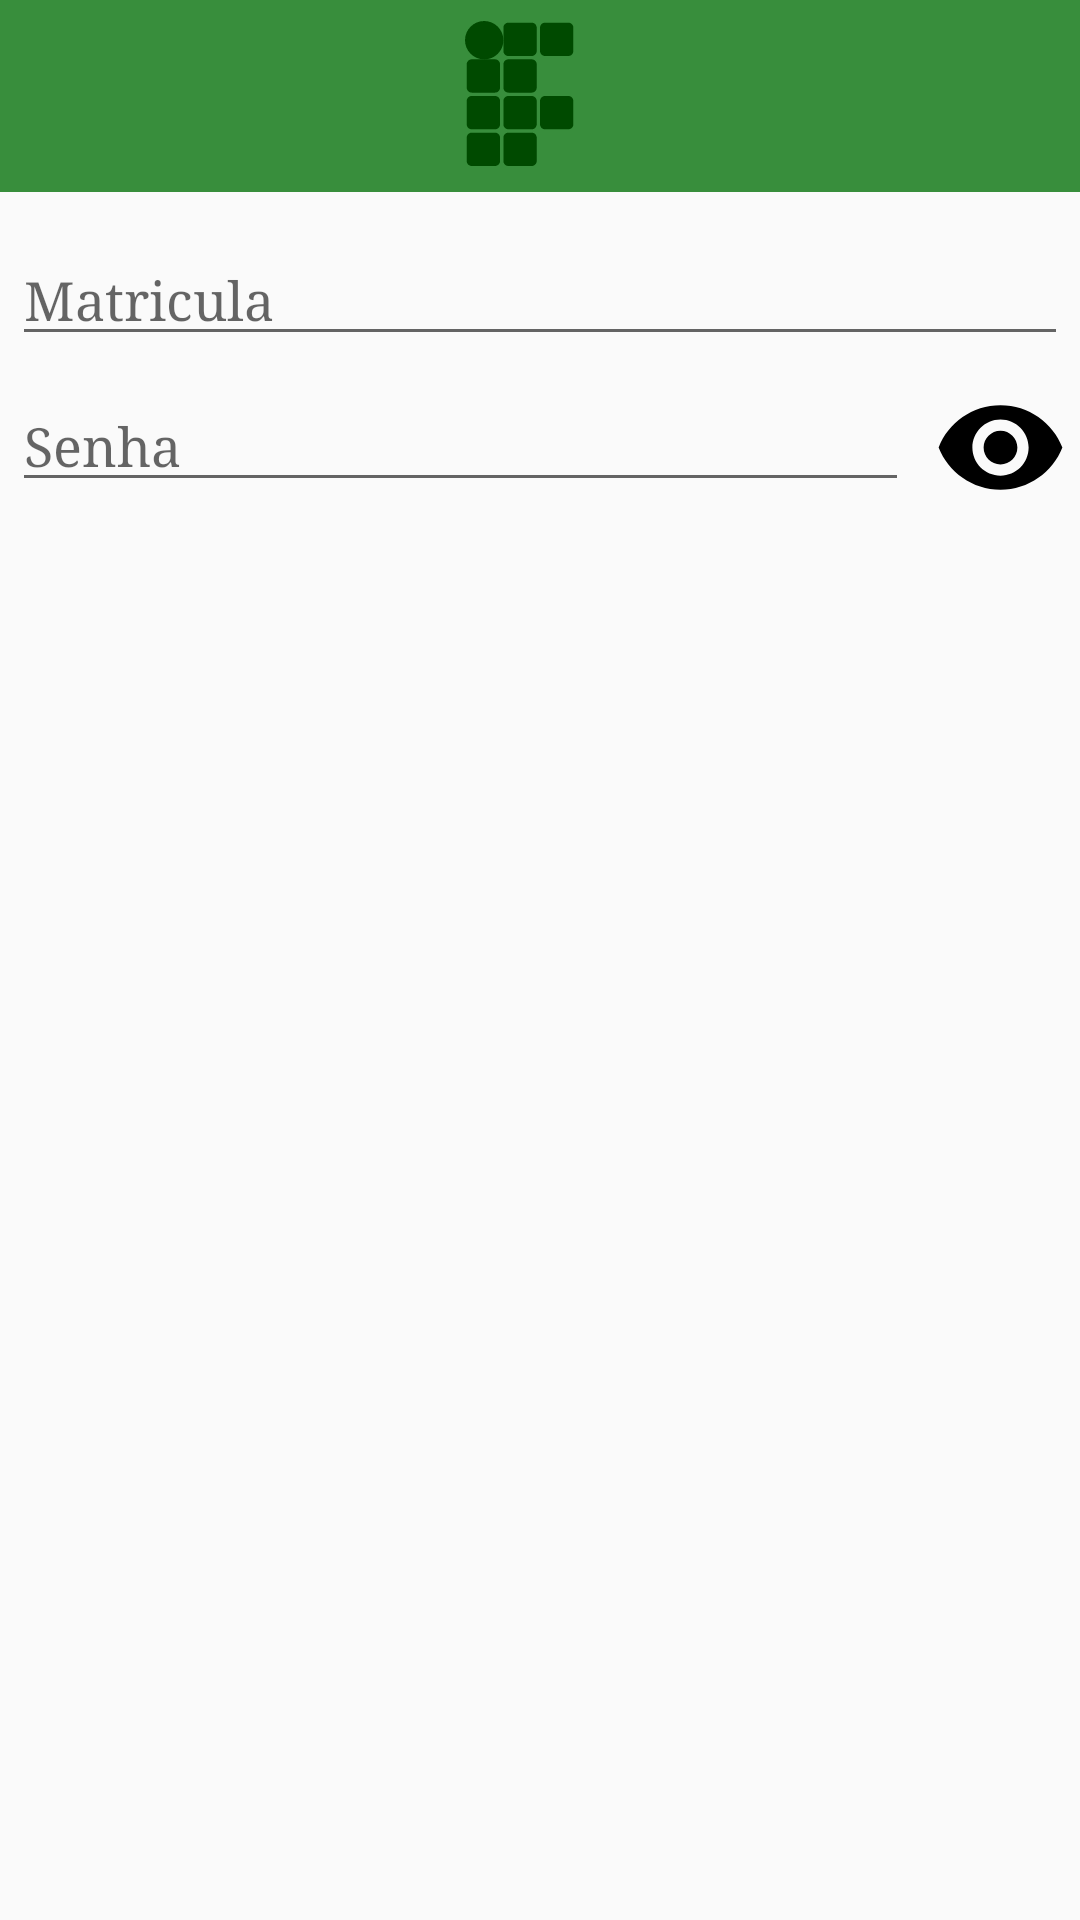

Icons on this 1080x1920 Android screen, each with its box as (x1, y1, x2, y2):
eye: (938, 405, 1063, 490)
